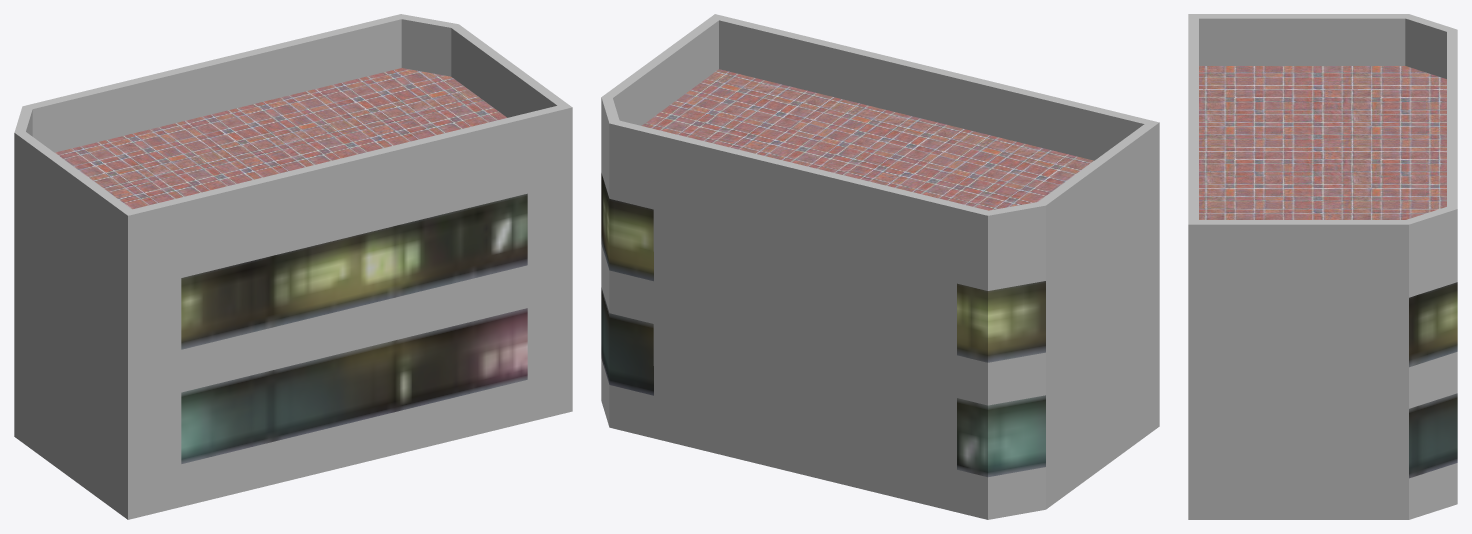
The model's file is hirise_parts02_2f.fbx.
3 renders of one model, left to right at view 1: azimuth 30°, elevation 25°; view 2: azimuth 150°, elevation 25°; view 3: azimuth 270°, elevation 25°, orthographic. The views are drawn at different scales.
Visible parts, largest first — view 1: hirise_parts02_2f; view 2: hirise_parts02_2f; view 3: hirise_parts02_2f.
Boxes of the visible parts, x1,y1,x2,y2 form: hirise_parts02_2f: [14, 14, 572, 519]; hirise_parts02_2f: [601, 14, 1159, 519]; hirise_parts02_2f: [1188, 14, 1457, 519].
Size of the model in its own units: 12.59 by 8.23 by 6.8.
